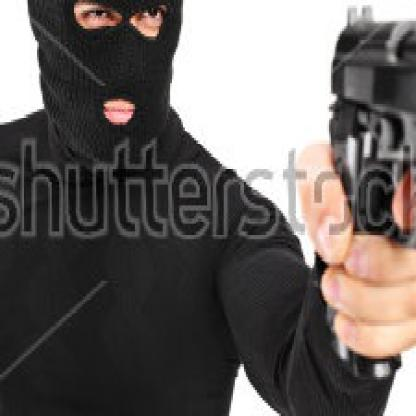gun: (326, 0, 414, 377)
